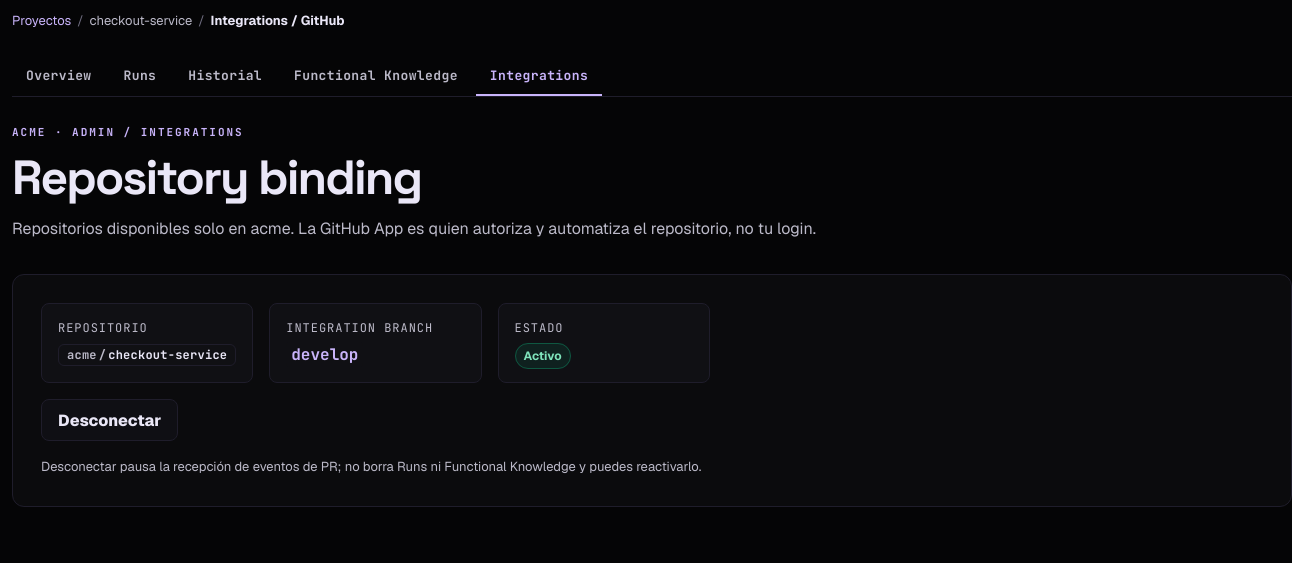
it: un fallo al desconectar muestra el error con role="alert" y correlationId
Expected: the text "Activo" is shown, [514, 343, 571, 369]
Click the button "Desconectar". click: click(110, 420)
box: [41, 399, 178, 441]
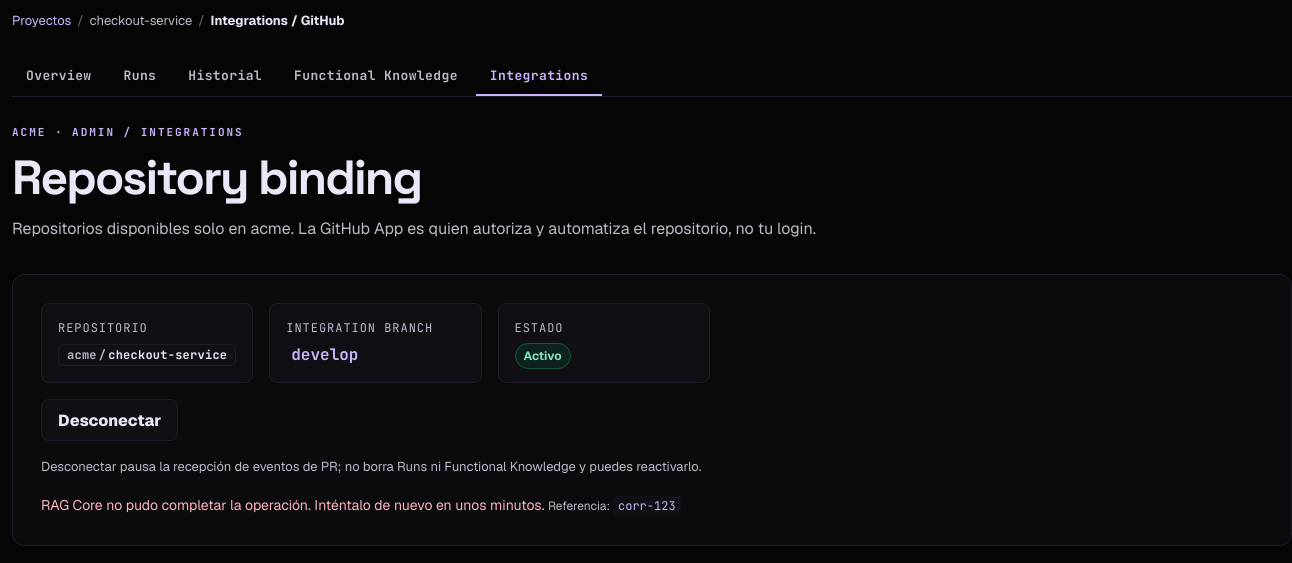
Expected: the message does not show "stack interno", [41, 494, 681, 516]
Expected: the message shows "RAG Core no pudo completar la operación", [41, 496, 544, 514]
Expected: the message shows "corr-123", [618, 498, 676, 514]
